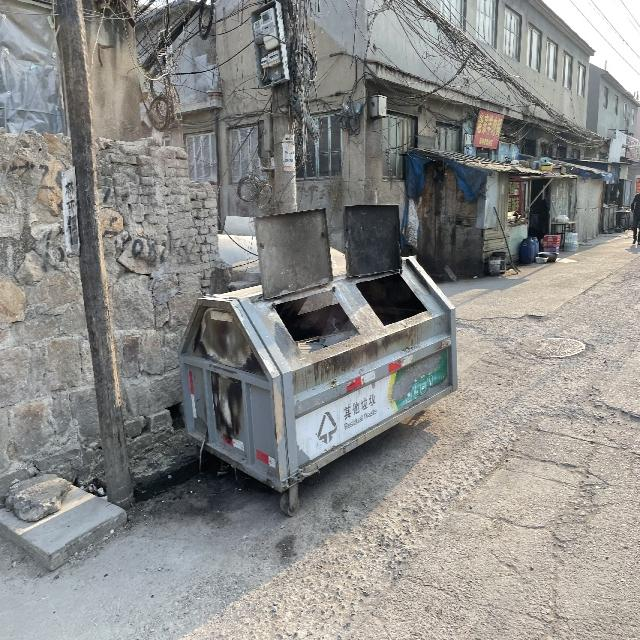garbage_bin: (177, 255, 457, 492)
